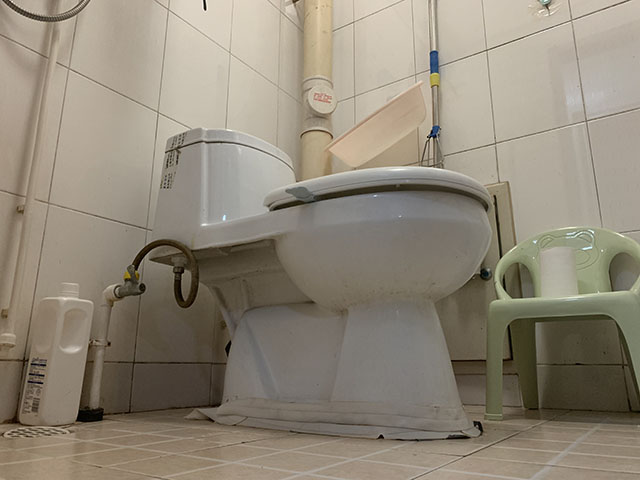closestool: (148, 126, 494, 442)
stool: (484, 224, 640, 423)
